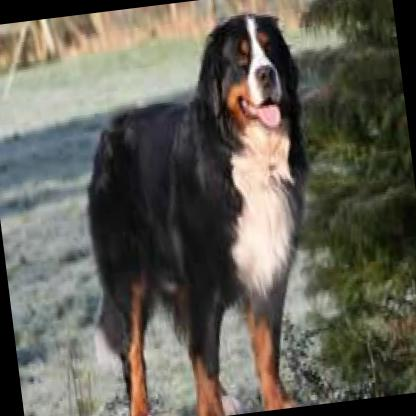EntleBucher: (62, 3, 342, 416)
